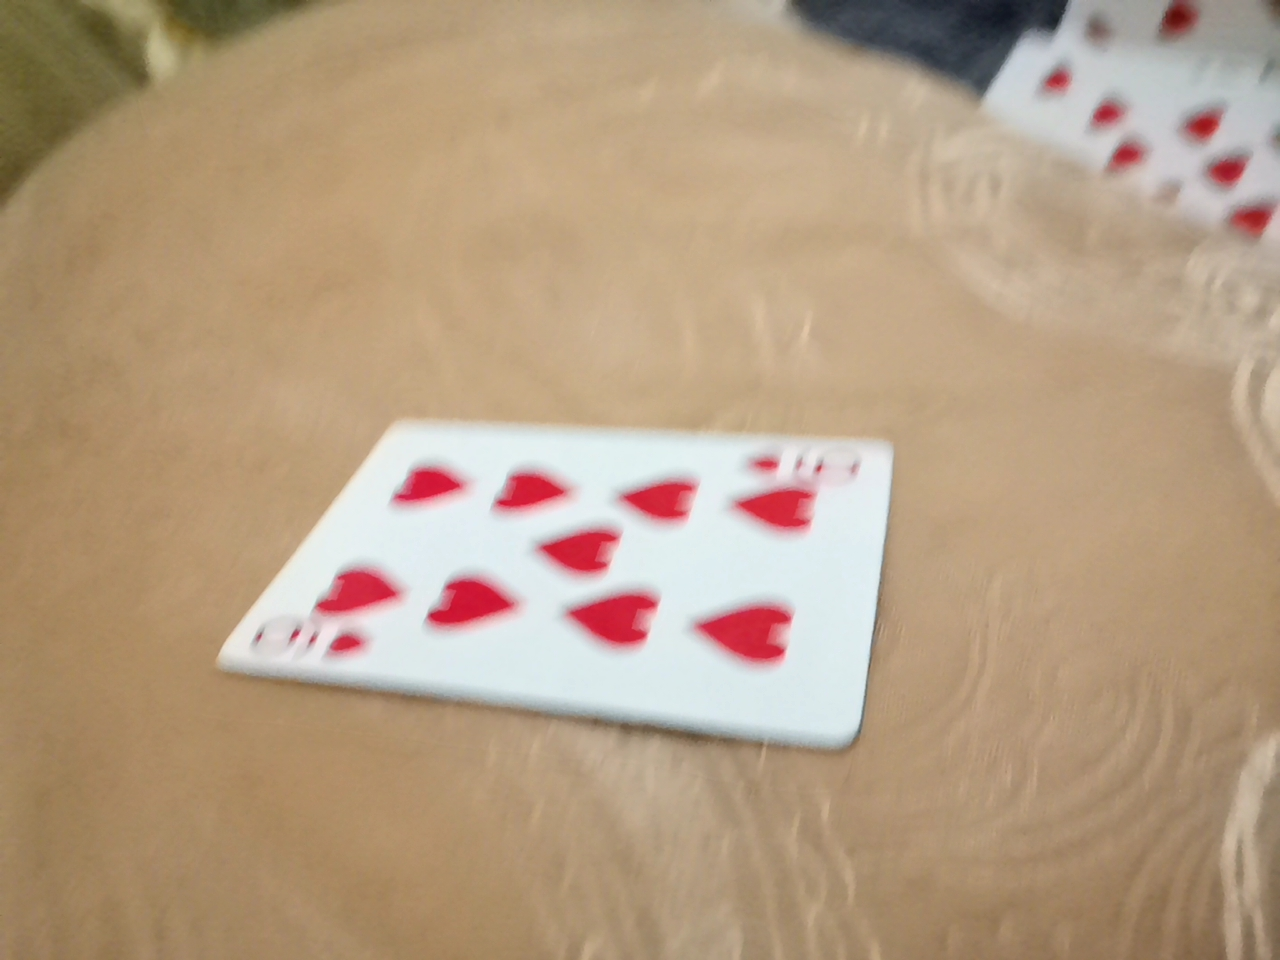hx 9: (139, 596, 825, 949)
